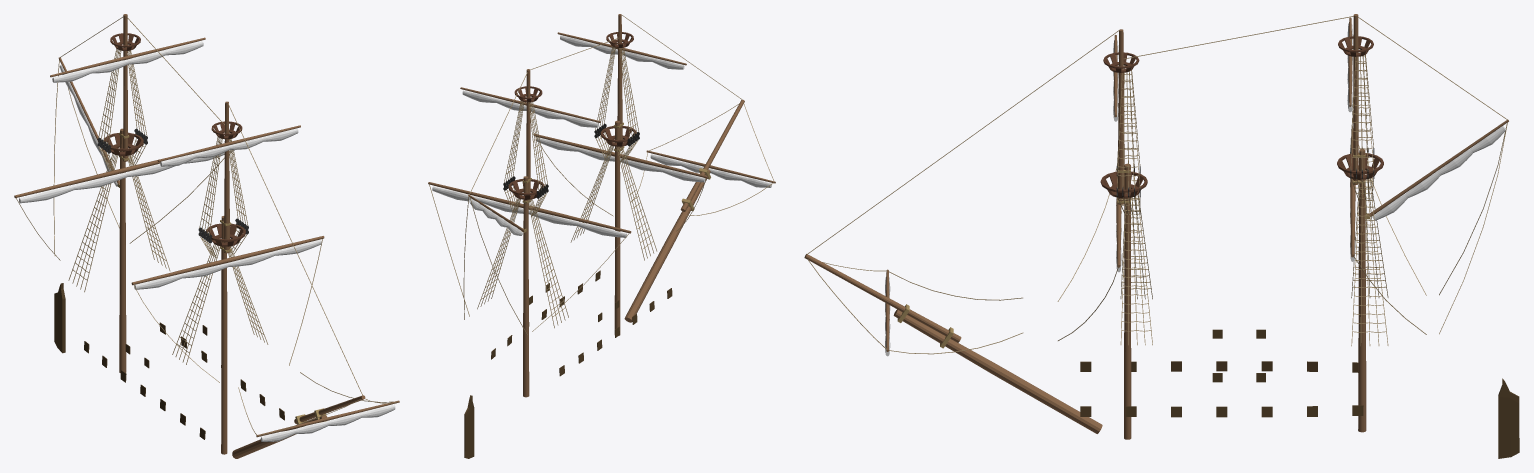
File: Destroyable Ship Details.fbx
3 renders of one model, left to right at view 1: azimuth 30°, elevation 25°; view 2: azimuth 150°, elevation 25°; view 3: azimuth 270°, elevation 25°, orthographic. The views are drawn at different scales.
Visible parts, largest first — view 1: FOREBOTSAIL, AFTBOTSAIL, AFTTOPSAIL, BSSAIL, FORETOPSAIL, STARAFTBOTRIGGING, STARFOREBOTRIGGING, PORTAFTBOTRIGGING, PORTFOREBOTRIGGING, STARFORETOPRIGGING, STARAFTTOPRIGGING, PORTFORETOPRIGGING (+4 smaller); view 2: AFTBOTSAIL, FOREBOTSAIL, AFTTOPSAIL, STARAFTBOTRIGGING, BSSAIL, FORETOPSAIL, STARFOREBOTRIGGING, PORTAFTBOTRIGGING, STARFORETOPRIGGING, STARAFTTOPRIGGING, PORTFOREBOTRIGGING, PORTAFTTOPRIGGING (+4 smaller); view 3: PORTAFTBOTRIGGING, AFTSAIL, PORTFOREBOTRIGGING, PORTFORETOPRIGGING, RUDDER_2, PORTAFTTOPRIGGING, STARAFTBOTRIGGING, BSPRIT_5.
Part boxes in pixels (box(x1,y1,x2,y2)): FOREBOTSAIL: box(134, 239, 321, 289); AFTBOTSAIL: box(19, 150, 234, 203); AFTTOPSAIL: box(52, 41, 203, 82); BSSAIL: box(260, 404, 395, 441); FORETOPSAIL: box(160, 128, 298, 166); STARAFTBOTRIGGING: box(68, 154, 117, 292); STARFOREBOTRIGGING: box(172, 238, 220, 364); PORTAFTBOTRIGGING: box(128, 155, 170, 271); PORTFOREBOTRIGGING: box(228, 246, 268, 344); STARFORETOPRIGGING: box(199, 137, 222, 235); STARAFTTOPRIGGING: box(98, 49, 121, 145); PORTFORETOPRIGGING: box(229, 132, 248, 225); AFTBOTSAIL: box(432, 186, 626, 237); FOREBOTSAIL: box(536, 137, 705, 182); AFTTOPSAIL: box(462, 90, 598, 127); STARAFTBOTRIGGING: box(528, 199, 568, 328); BSSAIL: box(650, 154, 771, 187); FORETOPSAIL: box(560, 35, 684, 69); STARFOREBOTRIGGING: box(616, 146, 657, 260); PORTAFTBOTRIGGING: box(477, 198, 520, 309); STARFORETOPRIGGING: box(619, 47, 639, 138); STARAFTTOPRIGGING: box(528, 102, 547, 191); PORTFOREBOTRIGGING: box(570, 142, 614, 242); PORTAFTTOPRIGGING: box(504, 101, 524, 182); PORTAFTBOTRIGGING: box(1351, 178, 1388, 346); AFTSAIL: box(1372, 126, 1505, 220); PORTFOREBOTRIGGING: box(1120, 193, 1152, 345); PORTFORETOPRIGGING: box(1117, 69, 1140, 188); RUDDER_2: box(1498, 418, 1519, 458); PORTAFTTOPRIGGING: box(1350, 55, 1373, 170); STARAFTBOTRIGGING: box(1351, 178, 1388, 298); BSPRIT_5: box(991, 364, 1049, 403).
Bounding box in the file's own units: 15.82 × 25.88 × 37.86.
